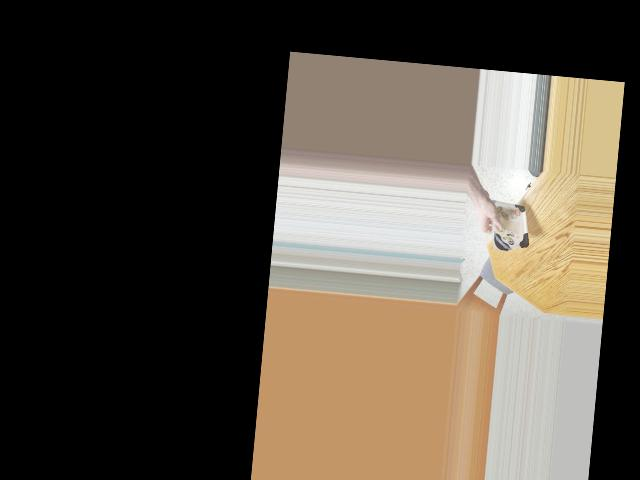cheese: (489, 194, 529, 255)
